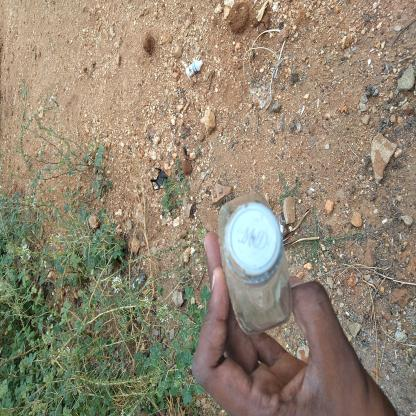bottle: (62, 288, 169, 399)
